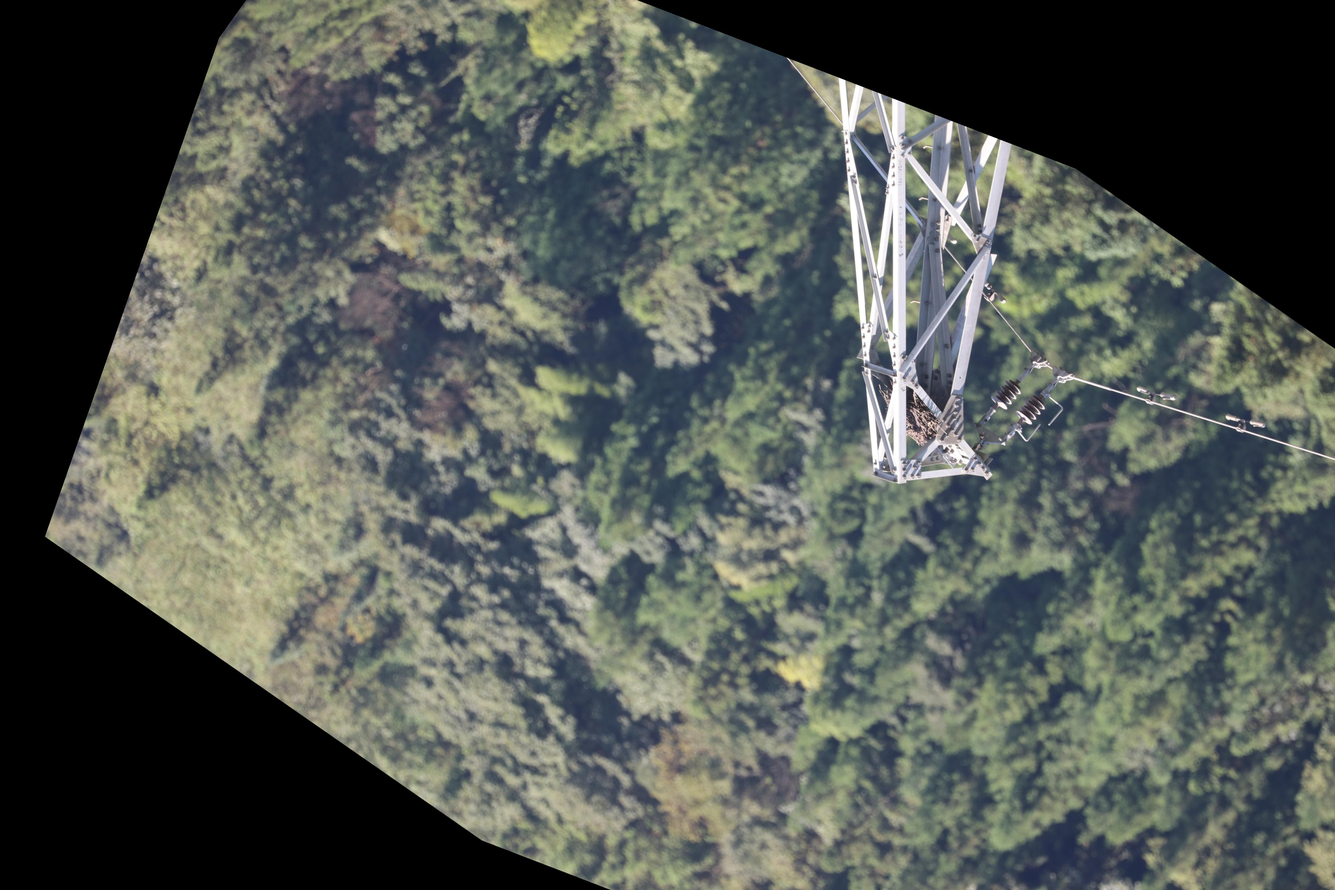damper: (1214, 393, 1276, 449), (1125, 368, 1185, 422), (971, 275, 1016, 316)
